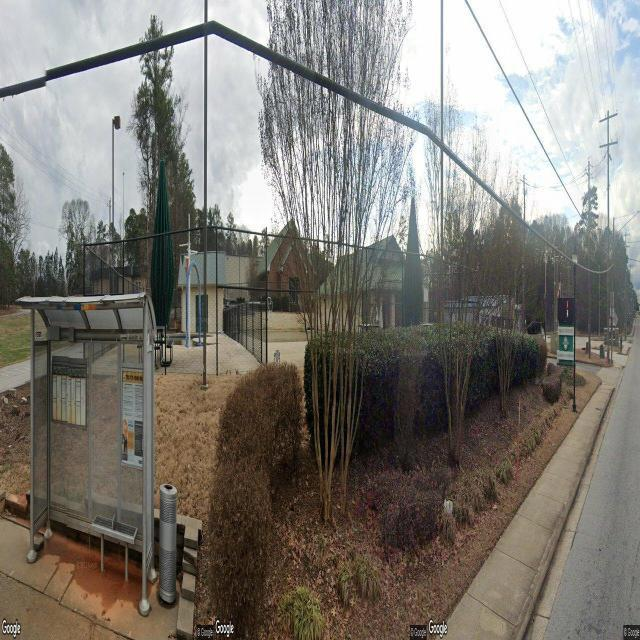seating: (90, 515, 138, 585)
shelter: (15, 290, 158, 602)
trash_can: (158, 482, 178, 606)
